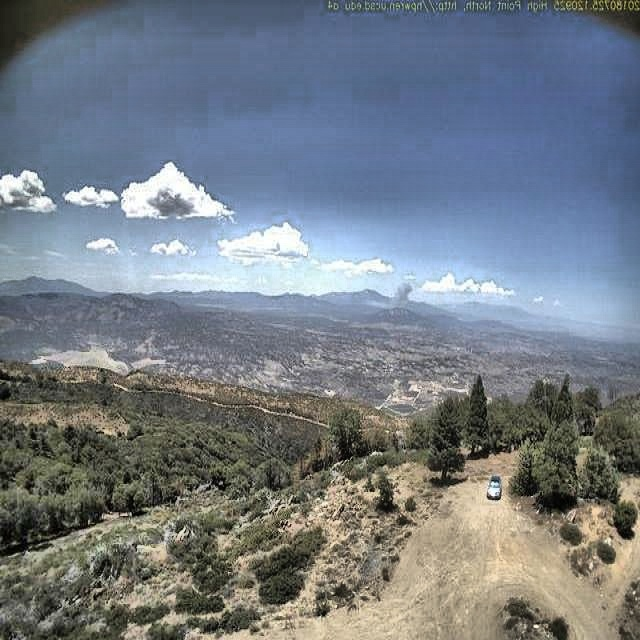smoke: (363, 275, 422, 313)
